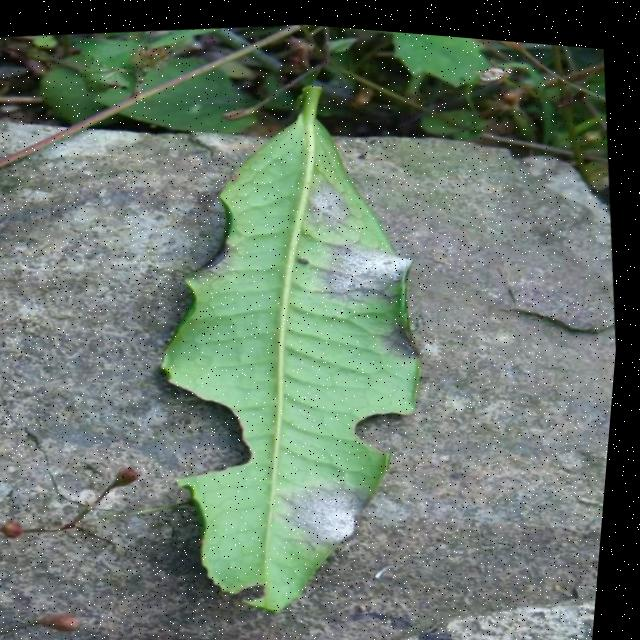Tea exobasidium blight: (290, 470, 384, 552), (328, 232, 427, 296), (307, 174, 362, 225), (382, 312, 435, 359)
